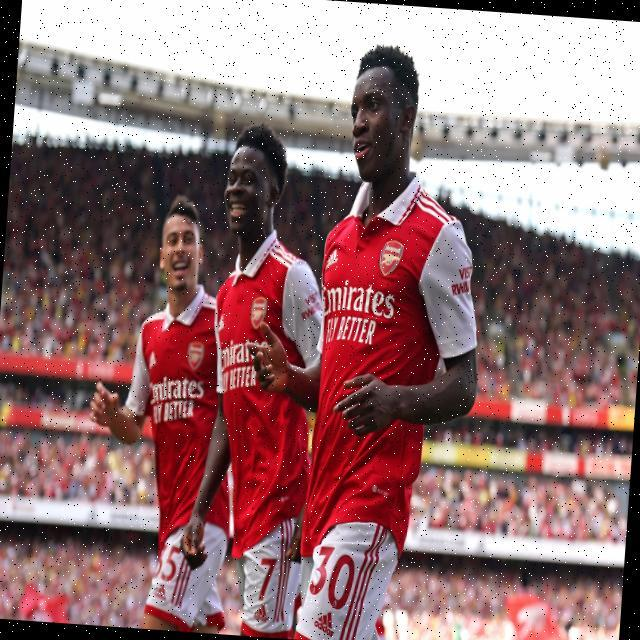Adidas: (313, 604, 337, 638), (324, 244, 339, 268), (253, 603, 270, 623), (153, 582, 167, 601), (148, 350, 158, 369), (217, 313, 226, 334)
Emirates: (319, 278, 397, 320), (147, 374, 204, 407), (220, 337, 271, 373)
